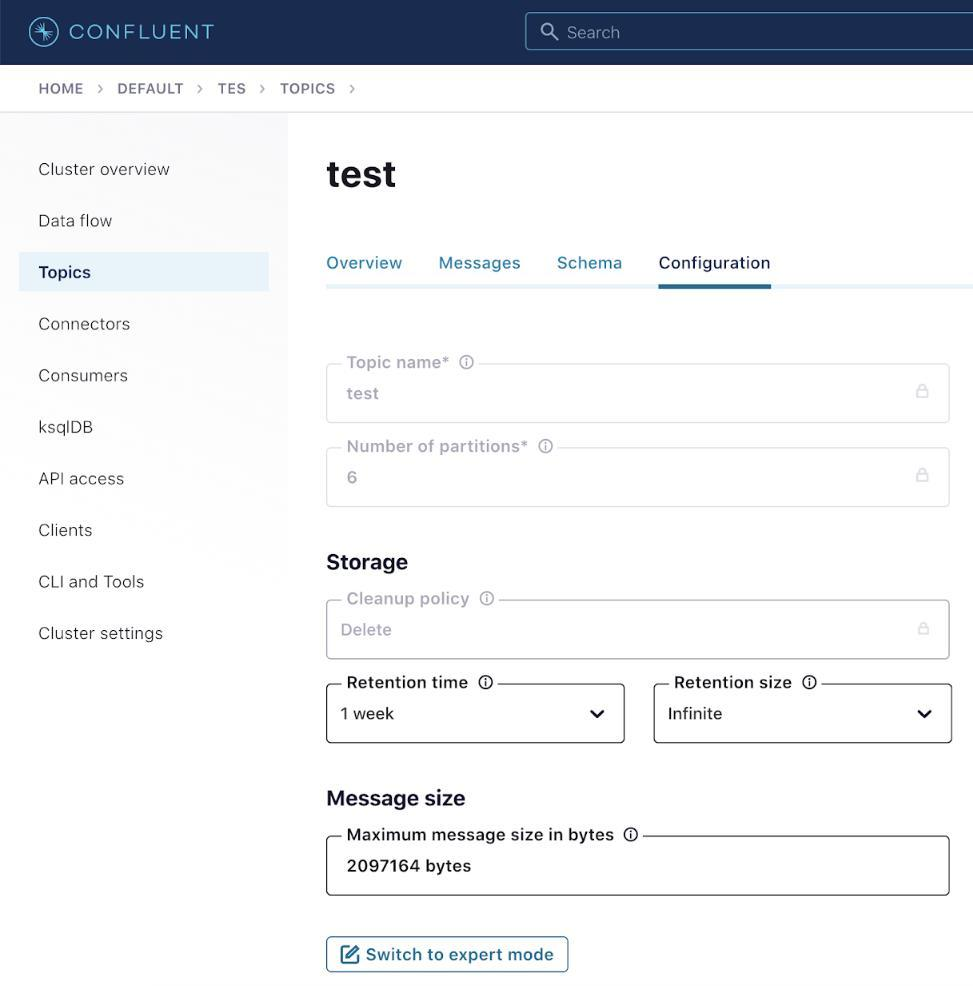button: (328, 938, 569, 971)
dropdown: (326, 683, 626, 741), (656, 687, 951, 745)
input: (328, 366, 950, 425), (328, 603, 950, 662), (327, 450, 949, 507), (329, 840, 951, 896)
label: (317, 548, 412, 580)
